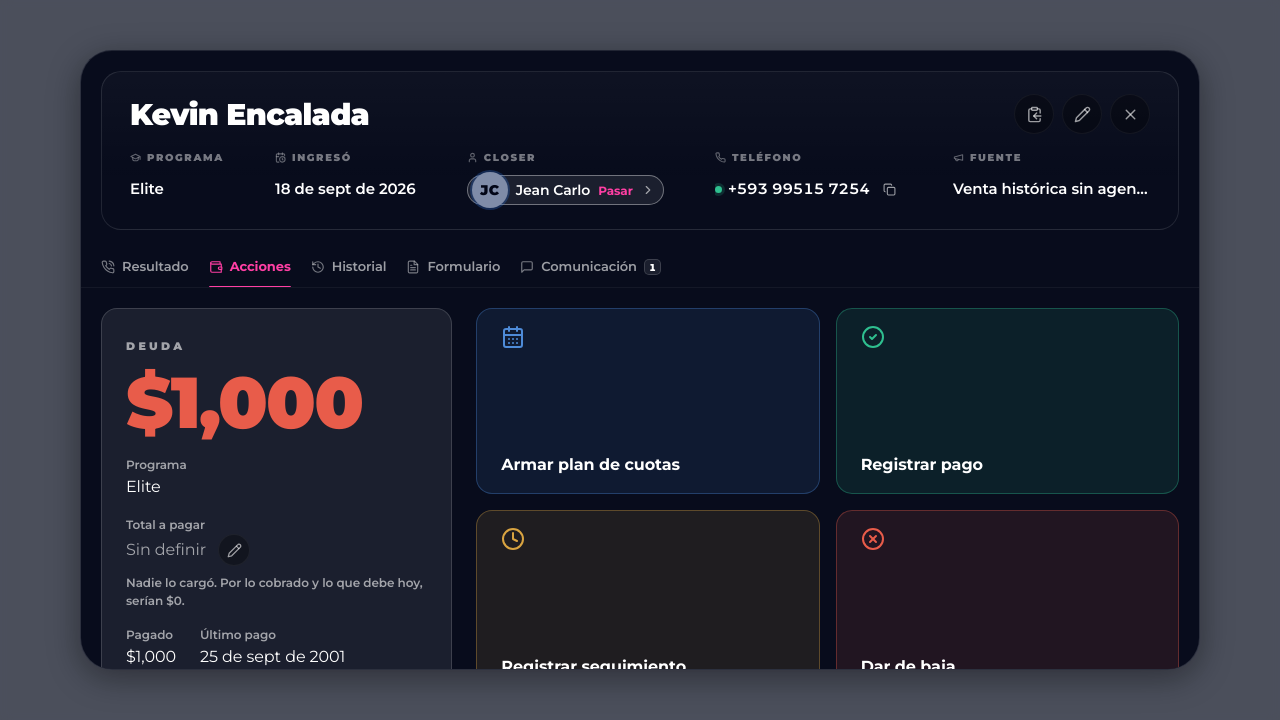
it: la fuente en modo edición › se elige del catálogo, y la guardada fuera de él sigue elegida
Expected: the tab "Acciones" is shown, 209,246 -> 291,287
Click the button named "Editar los datos del lead" at coordinates (1082, 114), box 1062,94 -> 1102,134
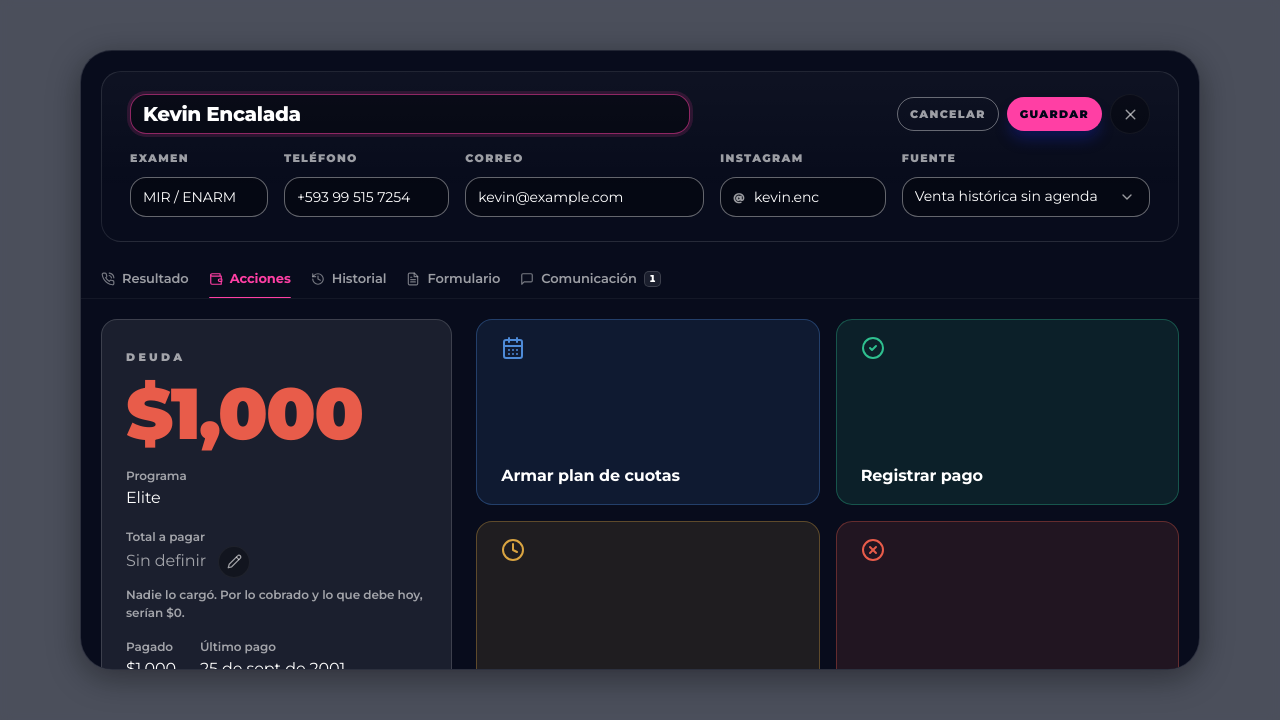
Expected: the dropdown labelled "Fuente" shows "Venta histórica sin agenda", 915,178 -> 1137,216
